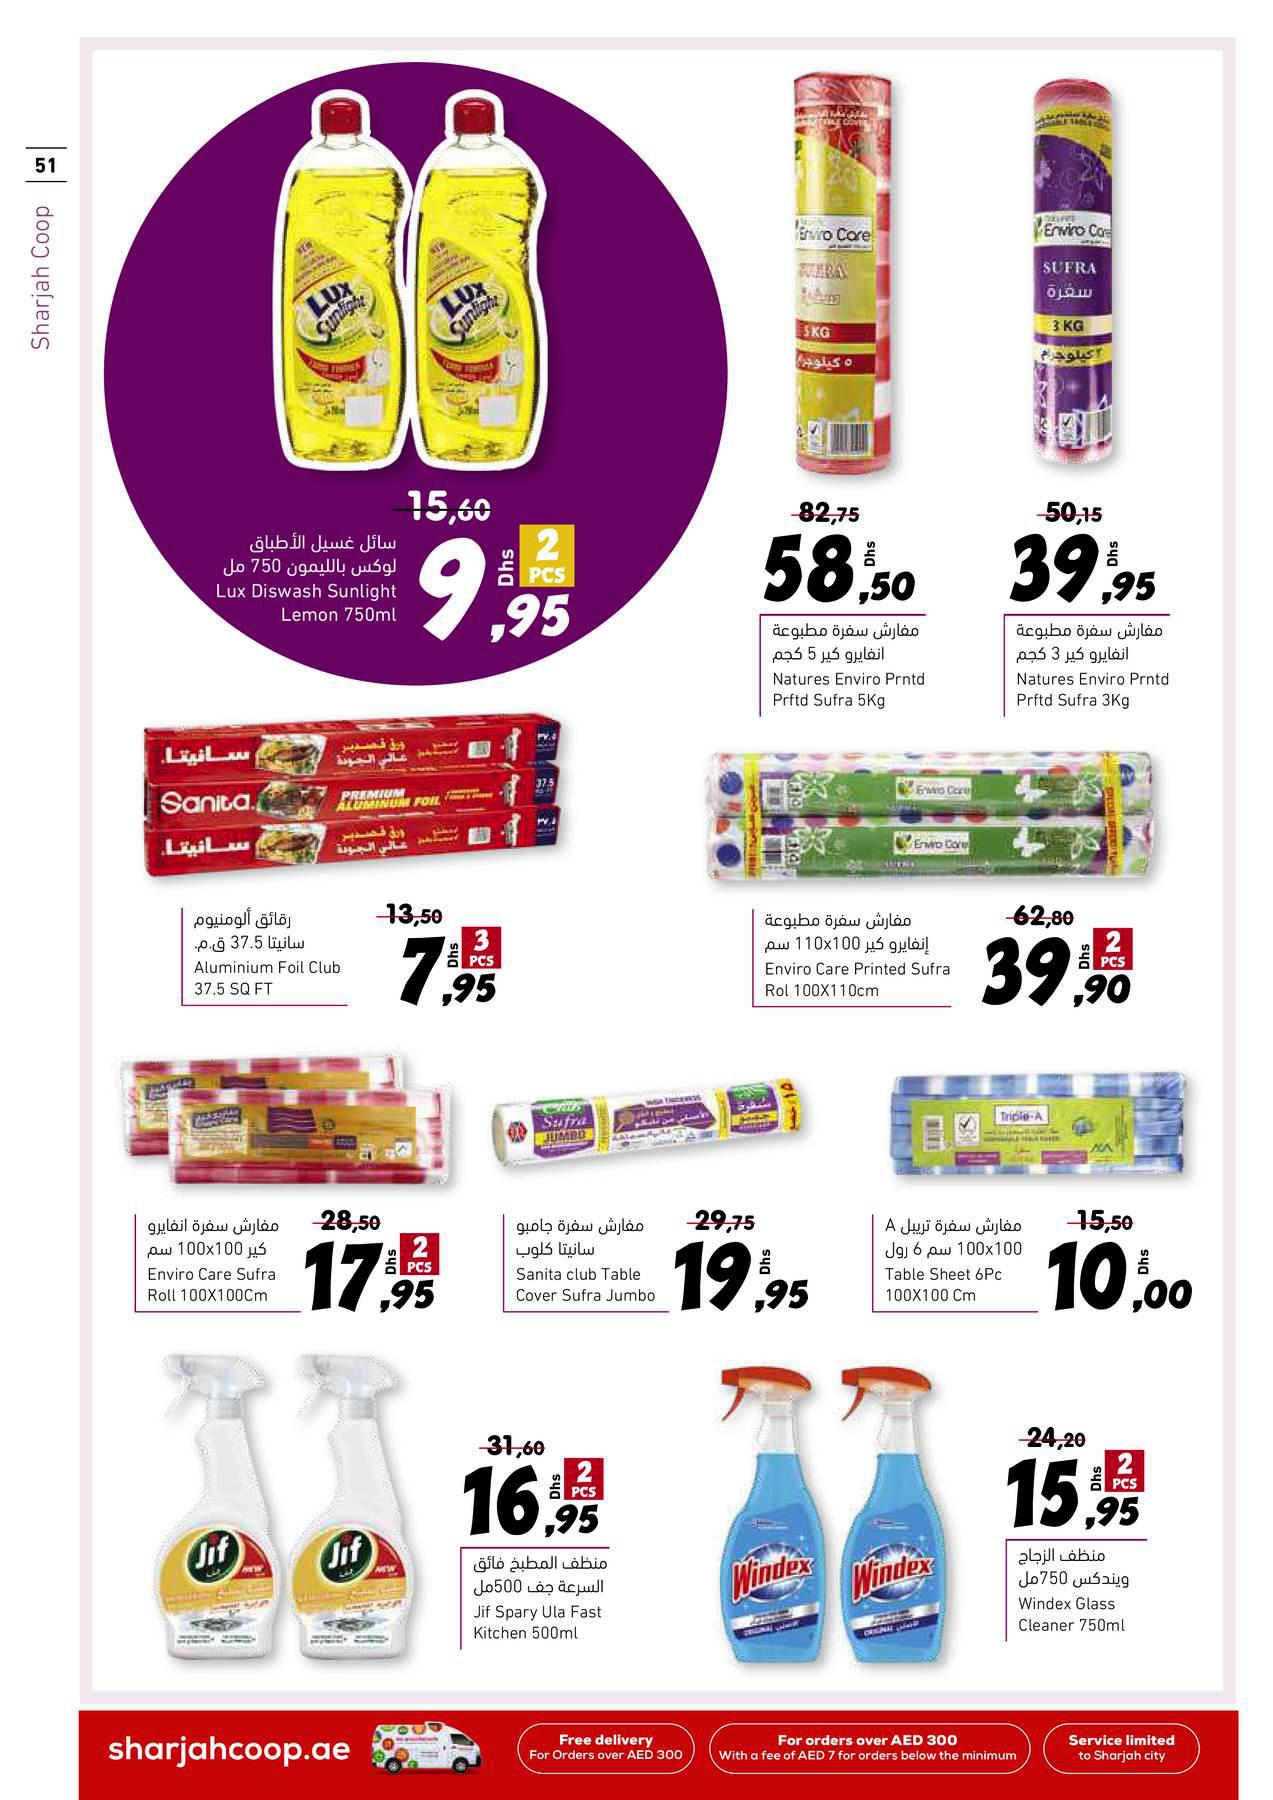text: (756, 898, 952, 961), (200, 526, 405, 585), (205, 577, 405, 635), (760, 667, 940, 727), (878, 1204, 1043, 1266), (1008, 662, 1183, 718), (464, 1598, 624, 1655), (756, 959, 960, 1003), (759, 620, 940, 669), (1003, 617, 1172, 669), (503, 1208, 654, 1266), (136, 1208, 293, 1263), (182, 903, 346, 956), (463, 1553, 631, 1604), (135, 1262, 298, 1312), (176, 959, 350, 1005), (1008, 1587, 1146, 1642), (506, 1266, 672, 1310), (876, 1263, 1020, 1310), (1011, 1542, 1142, 1592)
